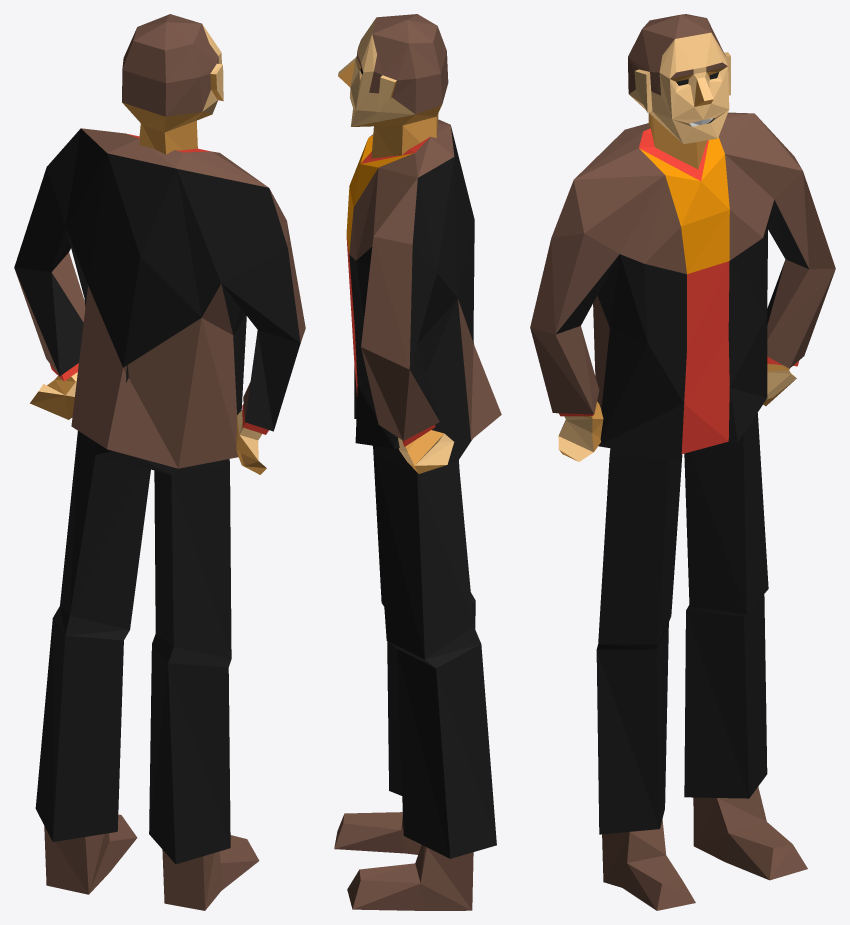
The model's file is man.fbx.
The picture shows the model from 3 angles, left to right: view 1: azimuth 30°, elevation 25°; view 2: azimuth 150°, elevation 25°; view 3: azimuth 270°, elevation 25°; orthographic projection.
Visible parts, largest first — view 1: group970516735, group1796477588, group269970041; view 2: group1796477588, group970516735, group269970041; view 3: group970516735, group1796477588, group269970041.
Part boxes in pixels (<box>): group970516735: <box>14,128,305,474</box>; group1796477588: <box>35,365,259,910</box>; group269970041: <box>122,14,223,154</box>; group1796477588: <box>334,343,496,910</box>; group970516735: <box>346,119,501,473</box>; group269970041: <box>338,14,448,158</box>; group970516735: <box>530,112,835,461</box>; group1796477588: <box>596,413,807,910</box>; group269970041: <box>628,14,730,169</box>.
Size of the model in its own units: 564 by 2519 by 805.
